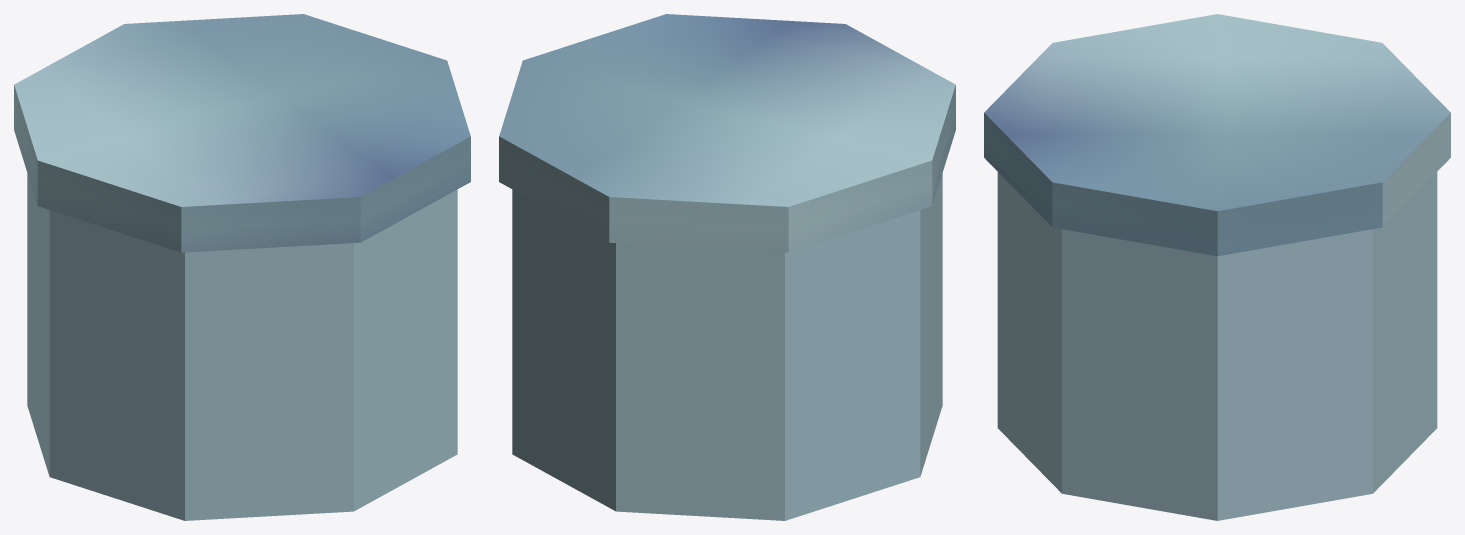
The model's file is Bathroom2_Bottle3.fbx.
3 renders of one model, left to right at view 1: azimuth 30°, elevation 25°; view 2: azimuth 150°, elevation 25°; view 3: azimuth 270°, elevation 25°, orthographic.
Visible parts, largest first — view 1: Bathroom2_Bottle3; view 2: Bathroom2_Bottle3; view 3: Bathroom2_Bottle3.
Boxes of the visible parts, x1,y1,x2,y2 form: Bathroom2_Bottle3: (14,14,470,520); Bathroom2_Bottle3: (499,14,955,520); Bathroom2_Bottle3: (984,14,1450,520).
Bounding box in the file's own units: 17.59 × 13.12 × 17.59.
